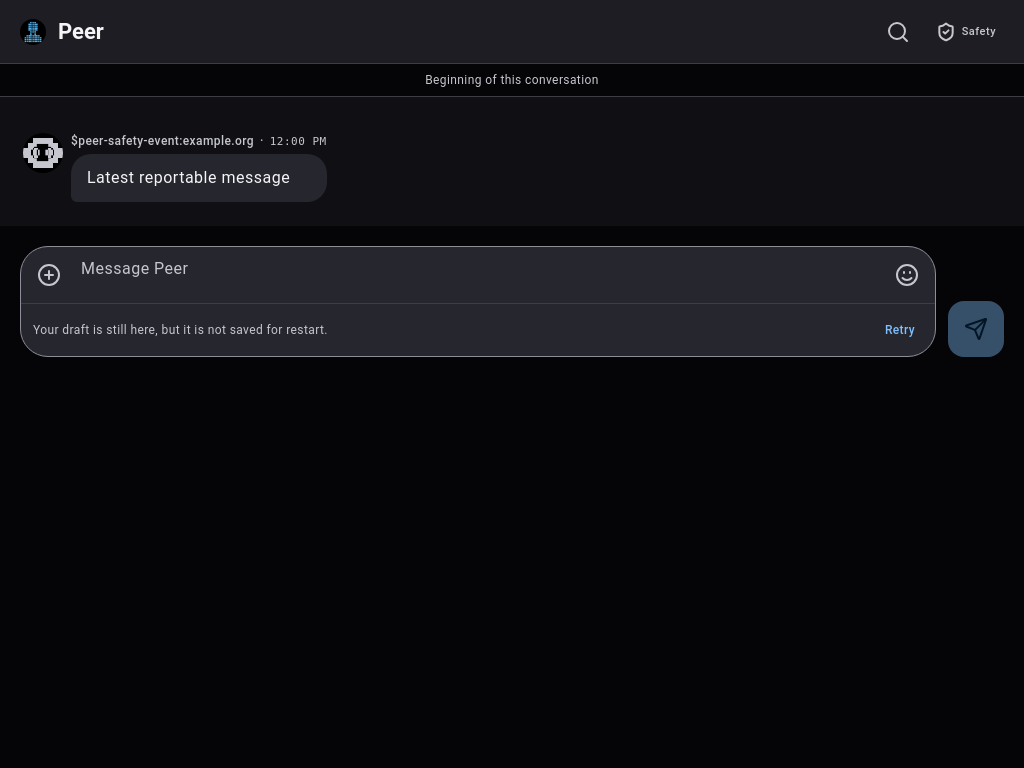
DmView message containment › keeps the account address and moderation controls inside the typed Safety pane
Expected: the text "@peer:example.org" is not shown
Expected: the text "Block Peer" is not shown
Click the button with aria-label "Open Safety with Peer".
click(966, 32)  # box 928,16 -> 1004,48
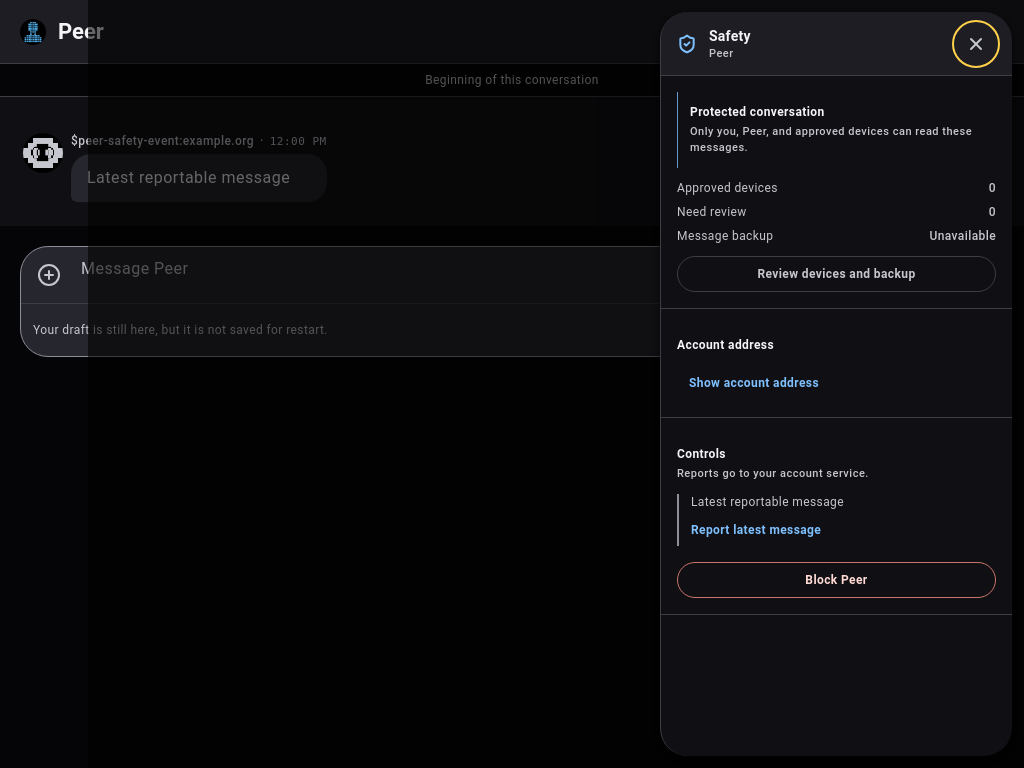
Expected: the element with id "mesh-dm-safety-panel" does not show "@peer:example.org"
Expected: the element with id "mesh-dm-safety-panel" shows "Report latest message", 691,514 -> 821,546
Expected: the element with id "mesh-dm-safety-panel" shows "Block Peer", 677,562 -> 996,598
Click the button "Show account address".
click(754, 383)  # box 677,365 -> 831,401
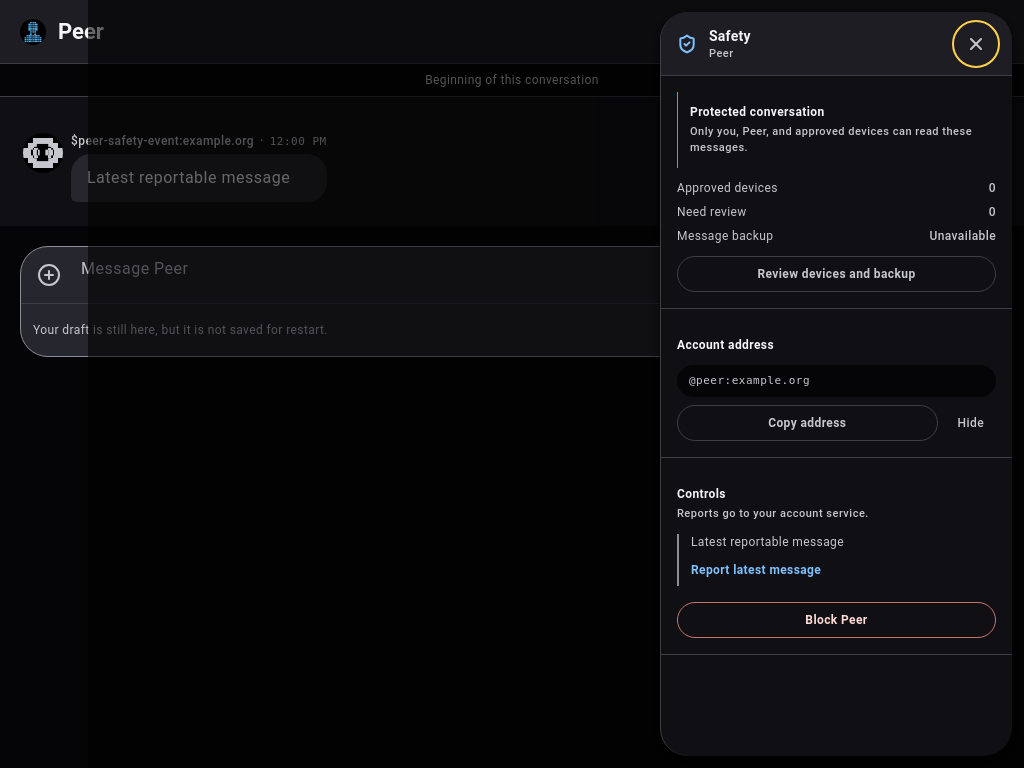
Expected: the element with id "mesh-dm-safety-panel" shows "@peer:example.org", 689,374 -> 810,387
Expected: the button with aria-label "Copy account address for Peer" is shown, 677,405 -> 938,441
Click the button "Block Peer".
click(836, 620)  # box 677,602 -> 996,638
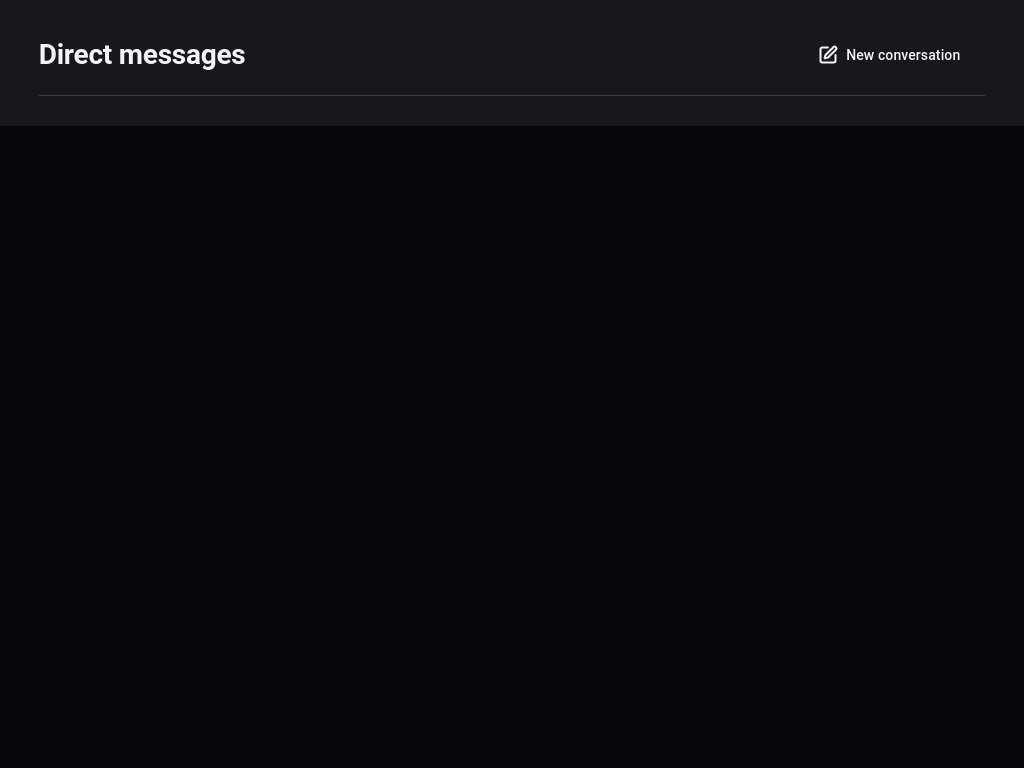
Expected: the button with id "mesh-dm-safety-panel" is gone
Expected: the heading "Direct messages" is shown, 39,38 -> 246,71
Expected: the text "New conversation" is shown, 793,31 -> 985,79
